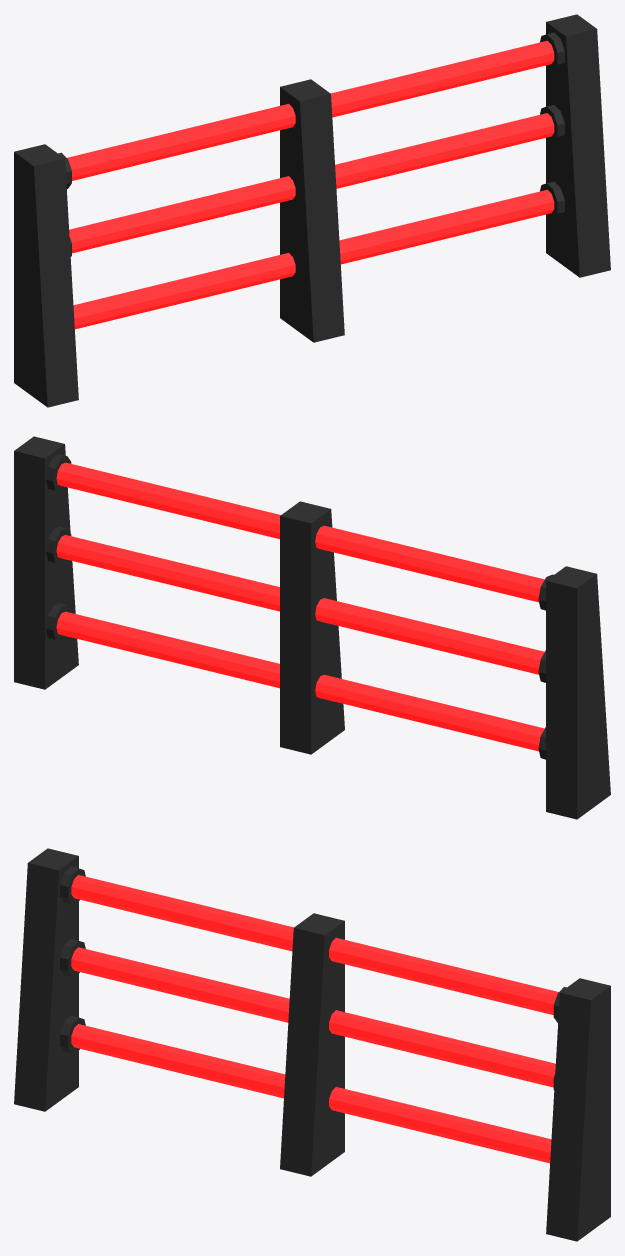
The model's file is LazerFence3.fbx.
3 renders of one model, top to bottom at view 1: azimuth 30°, elevation 25°; view 2: azimuth 150°, elevation 25°; view 3: azimuth 330°, elevation 25°, orthographic.
Parts seen in each view (by area): view 1: Cube.004, Cube.001, Cube.003, Cylinder, Cylinder.006, Cylinder.001; view 2: Cube.004, Cube.001, Cube.003, Cylinder, Cylinder.006, Cylinder.001; view 3: Cube.003, Cube.001, Cube.004, Cylinder, Cylinder.006, Cylinder.001, Cylinder.004, Cylinder.005, Cylinder.008.
Boxes of the visible parts, box(x1,y1,x2,y2) form: Cube.004: box(14, 144, 78, 407); Cube.001: box(280, 79, 344, 342); Cube.003: box(546, 14, 610, 277); Cylinder: box(67, 40, 554, 180); Cylinder.006: box(69, 113, 554, 253); Cylinder.001: box(73, 189, 554, 329); Cube.004: box(546, 566, 610, 819); Cube.001: box(280, 501, 344, 754); Cube.003: box(14, 436, 78, 689); Cylinder: box(56, 462, 544, 602); Cylinder.006: box(56, 535, 544, 674); Cylinder.001: box(56, 611, 544, 751); Cube.003: box(546, 978, 610, 1241); Cube.001: box(280, 913, 344, 1176); Cube.004: box(14, 848, 78, 1111); Cylinder: box(71, 875, 558, 1014); Cylinder.006: box(71, 947, 555, 1087); Cylinder.001: box(71, 1024, 551, 1163); Cylinder.004: box(60, 866, 85, 904); Cylinder.005: box(60, 1015, 85, 1053); Cylinder.008: box(60, 939, 85, 976).
Size of the model in its own units: 1.99 by 0.7821 by 0.2071.
